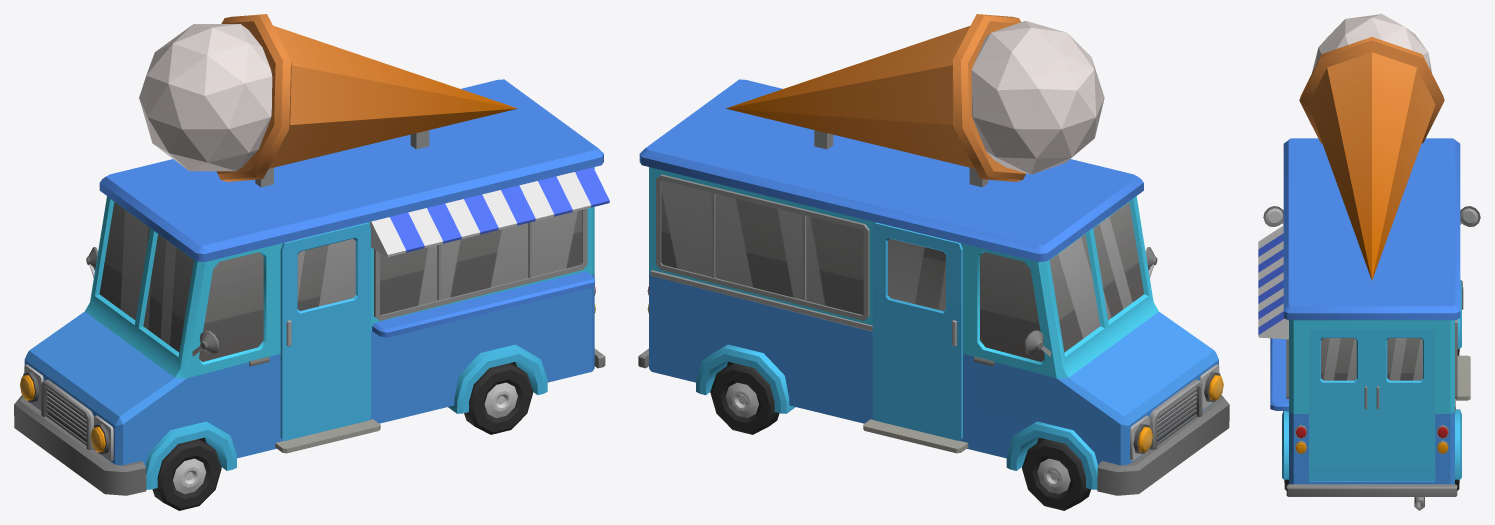
The model's file is IceTruck_1_F.gltf.
3 renders of one model, left to right at view 1: azimuth 30°, elevation 25°; view 2: azimuth 150°, elevation 25°; view 3: azimuth 270°, elevation 25°, orthographic. The views are drawn at different scales.
Visible parts, largest first — view 1: IceTruck_1_F, RL, FL; view 2: IceTruck_1_F, RR, FR; view 3: IceTruck_1_F.
Boxes of the visible parts, bbox=[...] form: IceTruck_1_F: bbox=[14, 14, 609, 495]; RL: bbox=[464, 363, 533, 434]; FL: bbox=[152, 439, 221, 510]; IceTruck_1_F: bbox=[638, 14, 1229, 495]; RR: bbox=[710, 363, 779, 434]; FR: bbox=[1022, 439, 1090, 510]; IceTruck_1_F: bbox=[1258, 14, 1480, 510].
Bounding box in the file's own units: 4.16 × 3.38 × 1.84.
Materials: 4 (4 with a texture image).
